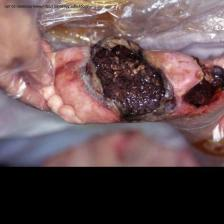Wound: (77, 35, 178, 126), (183, 53, 224, 115)
